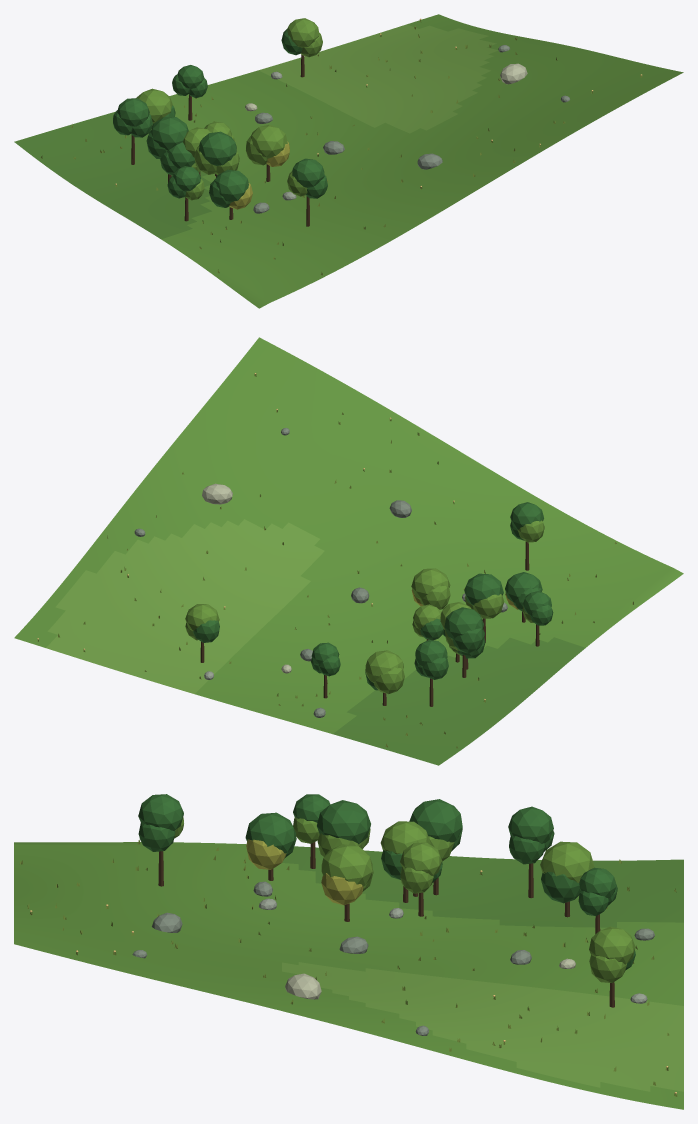
The model's file is Chunk_X1_Y0_Z3.fbx.
3 renders of one model, top to bottom at view 1: azimuth 30°, elevation 25°; view 2: azimuth 150°, elevation 25°; view 3: azimuth 270°, elevation 25°, orthographic. The views are drawn at different scales.
Visible parts, largest first — view 1: Terrain.034, Canopies.033, Rocks.034, Trunks.033, GroundCover.034; view 2: Terrain.034, Canopies.033, Rocks.034, Trunks.033; view 3: Terrain.034, Canopies.033, Rocks.034, Trunks.033, GroundCover.034.
Boxes of the visible parts, left/top/right/bottom form: Terrain.034: left=14, top=14, right=683, bottom=308; Canopies.033: left=113, top=18, right=327, bottom=209; Rocks.034: left=245, top=45, right=570, bottom=213; Trunks.033: left=131, top=55, right=309, bottom=226; GroundCover.034: left=41, top=18, right=642, bottom=275; Terrain.034: left=14, top=337, right=683, bottom=765; Canopies.033: left=185, top=502, right=553, bottom=694; Rocks.034: left=134, top=428, right=507, bottom=717; Trunks.033: left=200, top=541, right=539, bottom=706; Terrain.034: left=14, top=842, right=683, bottom=1109; Canopies.033: left=138, top=794, right=635, bottom=982; Rocks.034: left=132, top=881, right=654, bottom=1035; Trunks.033: left=158, top=842, right=614, bottom=1007; GroundCover.034: left=20, top=839, right=677, bottom=1096.
Size of the model in its own units: 100 by 32.9 by 100.
